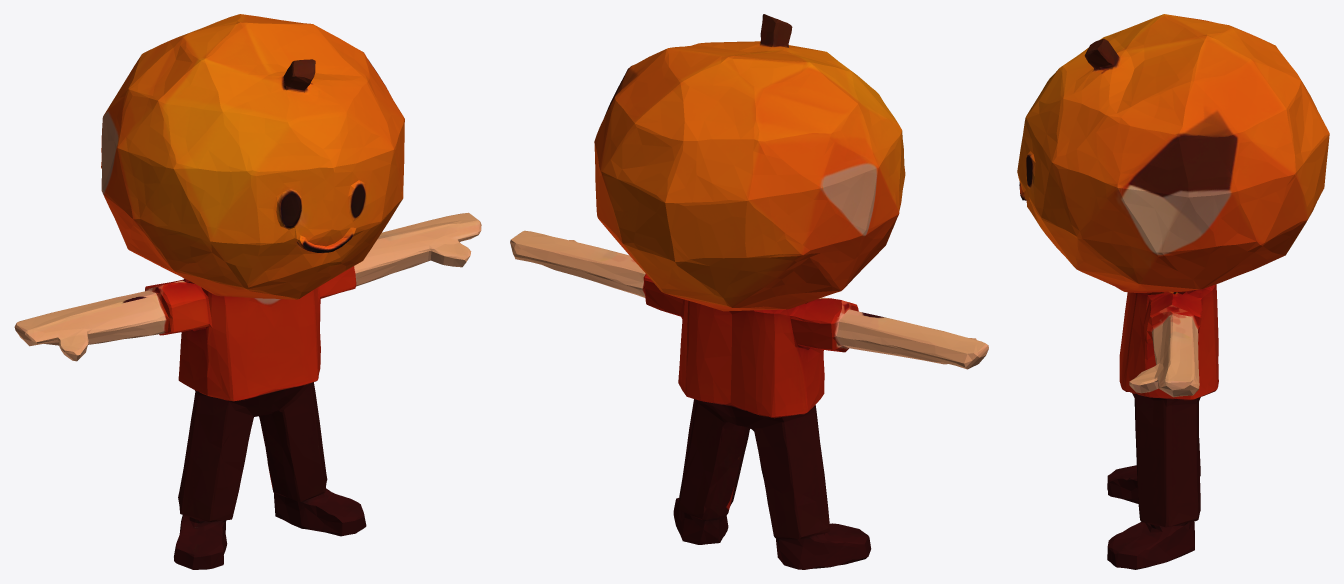
File: organic-honeycrisp-apple.glb
The picture shows the model from 3 angles, left to right: view 1: azimuth 30°, elevation 25°; view 2: azimuth 150°, elevation 25°; view 3: azimuth 270°, elevation 25°; orthographic projection. The views are drawn at different scales.
Parts seen in each view (by area): view 1: tmp5x_dureo.ply; view 2: tmp5x_dureo.ply; view 3: tmp5x_dureo.ply.
Part boxes in pixels (bbox=[...]): tmp5x_dureo.ply: bbox=[14, 14, 481, 569]; tmp5x_dureo.ply: bbox=[510, 14, 988, 569]; tmp5x_dureo.ply: bbox=[1017, 14, 1329, 569].
Bounding box in the file's own units: 1.94 × 1.99 × 1.15.
Materials: 1 (1 with a texture image).
